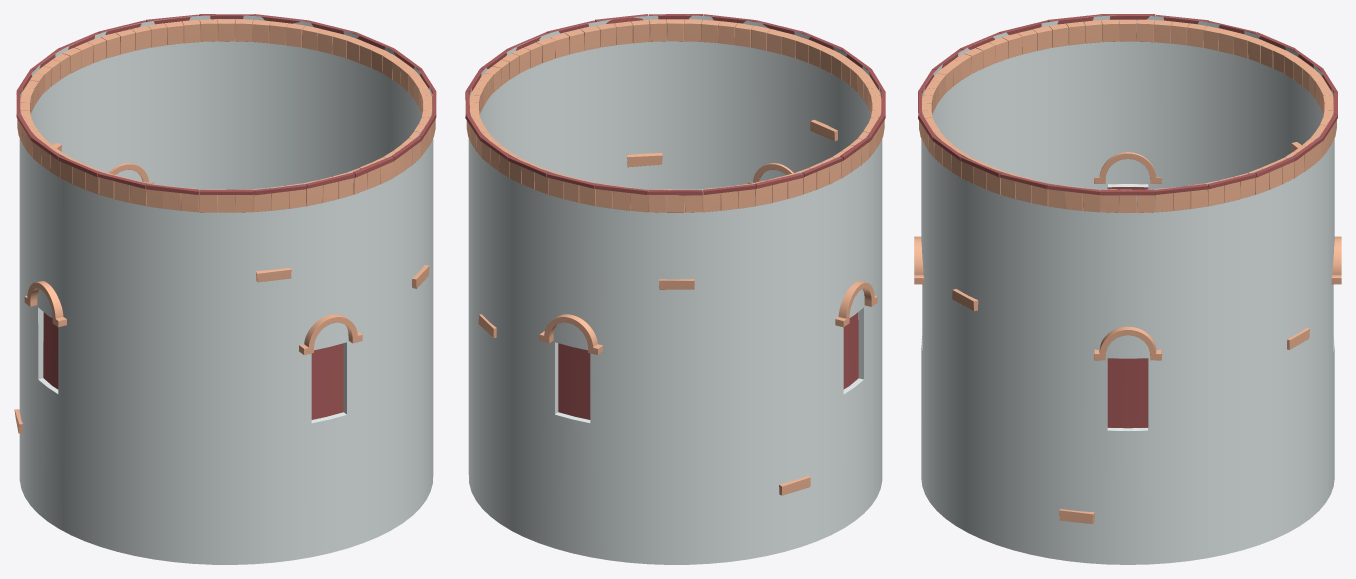
Rendered from towerbase.fbx.
3 views of the same model, side by side, from view 1: azimuth 30°, elevation 25°; view 2: azimuth 150°, elevation 25°; view 3: azimuth 270°, elevation 25° (orthographic).
Visible parts, largest first — view 1: tower base; view 2: tower base; view 3: tower base.
Part boxes in pixels (box(x1,y1,x2,y2)): tower base: box(14, 14, 436, 564); tower base: box(465, 14, 885, 564); tower base: box(914, 14, 1341, 564).
Size of the model in its own units: 798 by 773 by 798.
